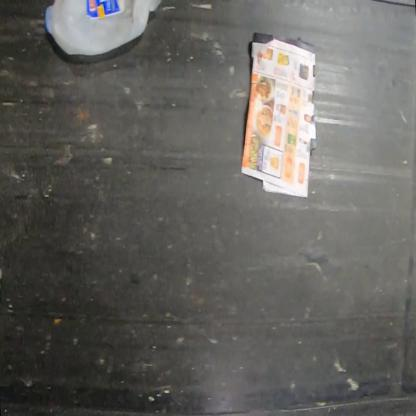rigid_plastic: (44, 1, 163, 57)
